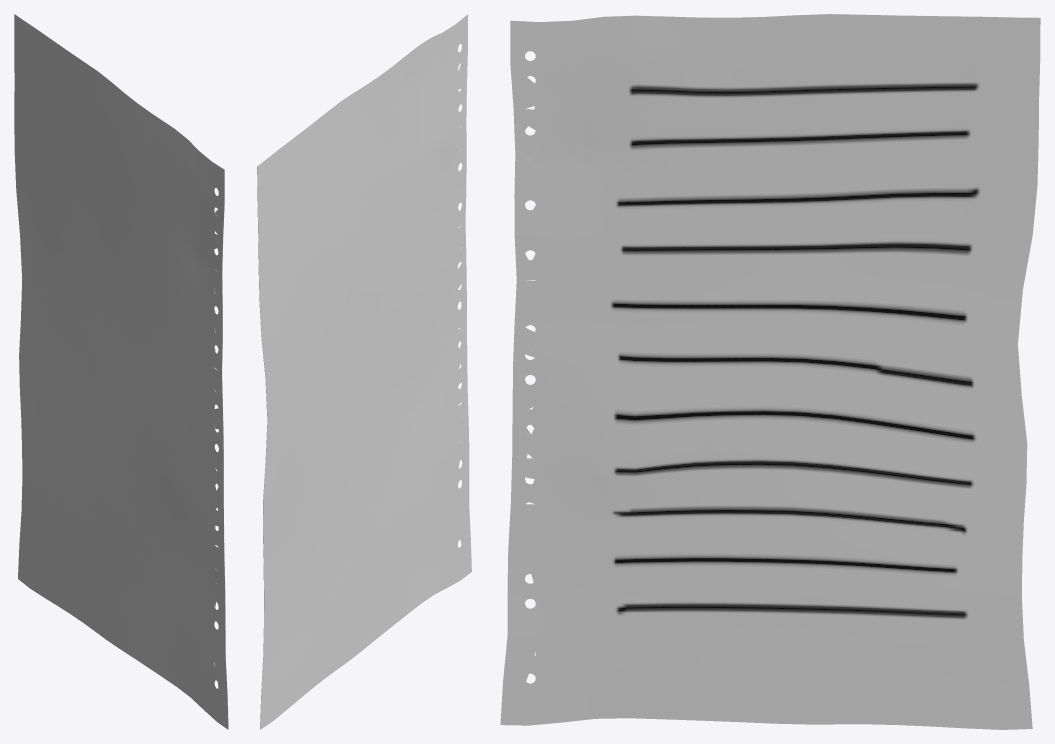
The model's file is HojaDePapel.fbx.
3 renders of one model, left to right at view 1: azimuth 30°, elevation 25°; view 2: azimuth 150°, elevation 25°; view 3: azimuth 270°, elevation 25°, orthographic. The views are drawn at different scales.
Visible parts, largest first — view 1: HojaDePapel; view 2: HojaDePapel; view 3: HojaDePapel.
Part boxes in pixels (x1,y1,x2,y2): HojaDePapel: (14, 14, 228, 729); HojaDePapel: (257, 14, 471, 729); HojaDePapel: (500, 14, 1040, 729).
Size of the model in its own units: 1.03 by 205 by 140.
